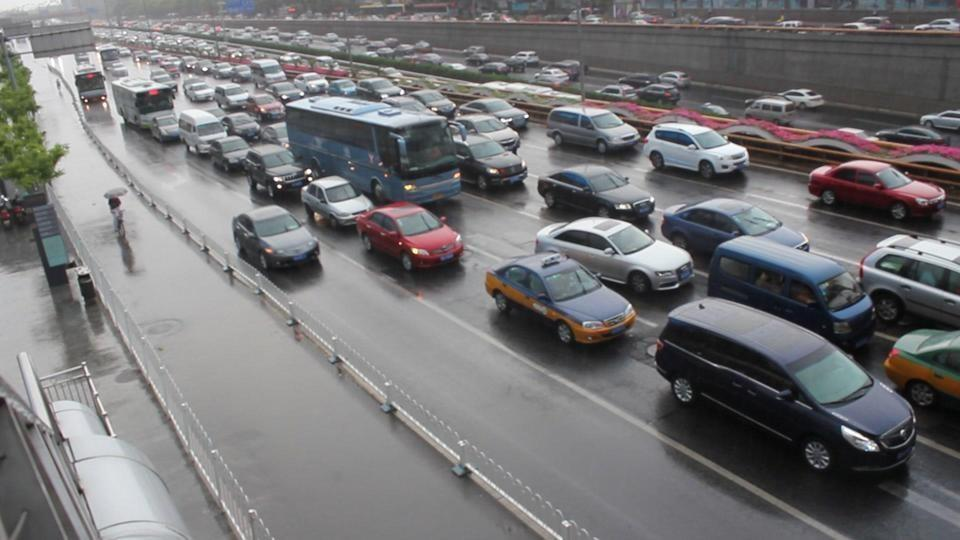car: (649, 296, 919, 482), (7, 357, 193, 537), (706, 235, 879, 354), (483, 251, 638, 346), (535, 214, 696, 293), (659, 196, 811, 270), (857, 234, 960, 329), (805, 158, 946, 227), (535, 163, 657, 232), (356, 201, 465, 270), (882, 327, 960, 411), (643, 122, 751, 179), (231, 203, 321, 270), (545, 105, 642, 155), (450, 133, 529, 190), (243, 144, 319, 202), (302, 174, 374, 231), (177, 107, 230, 155), (73, 51, 108, 111)
